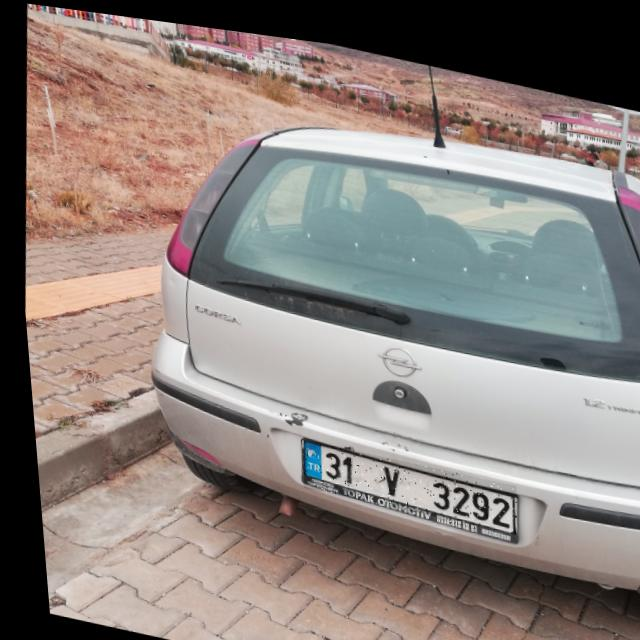license_plate: (292, 431, 512, 521)
